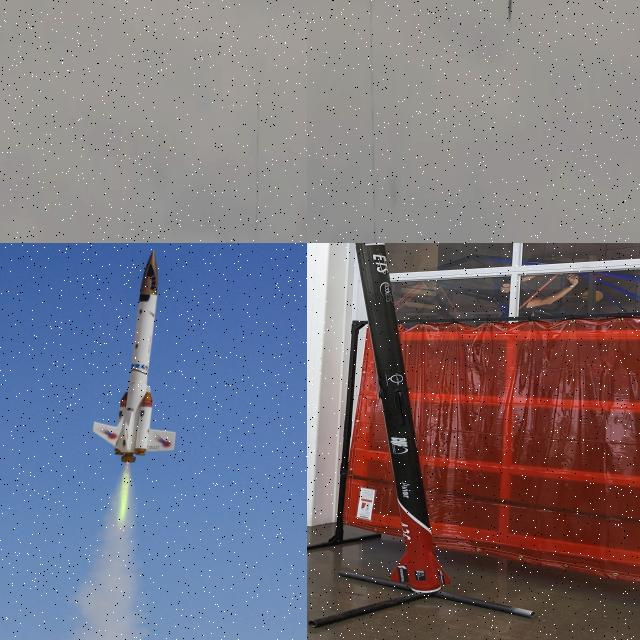Rocket: (354, 243, 451, 593), (92, 249, 179, 460)
